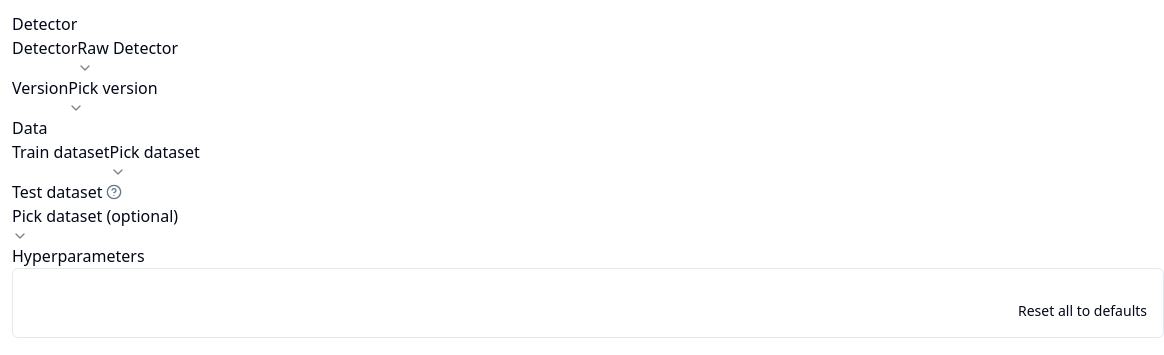
TrainSubForm › query-shape fallbacks (L44-58) › tolerates the raw-array (non-`{ items }`) response shape on detectors / versions / datasets
# Detector option is present.
Click the dropdown labelled "Raw Detector".
click(128, 56)  # box left=77, top=36, right=178, bottom=76
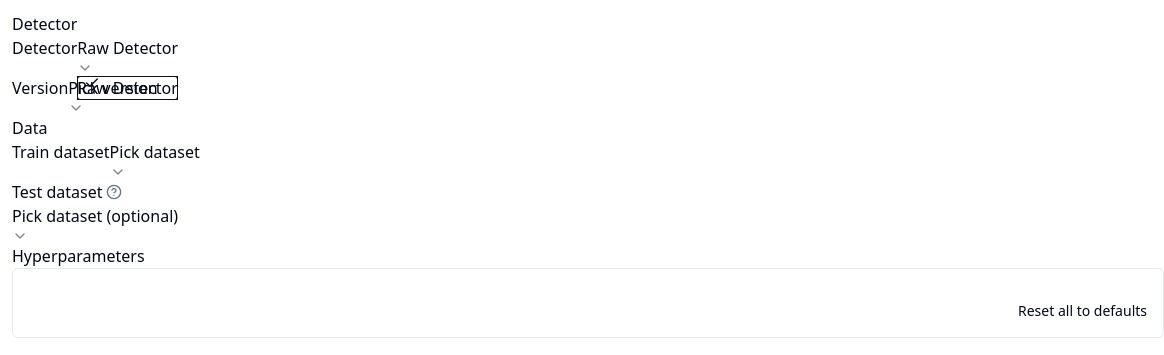
Result: the option "Raw Detector" is shown at left=77, top=76, right=178, bottom=100
